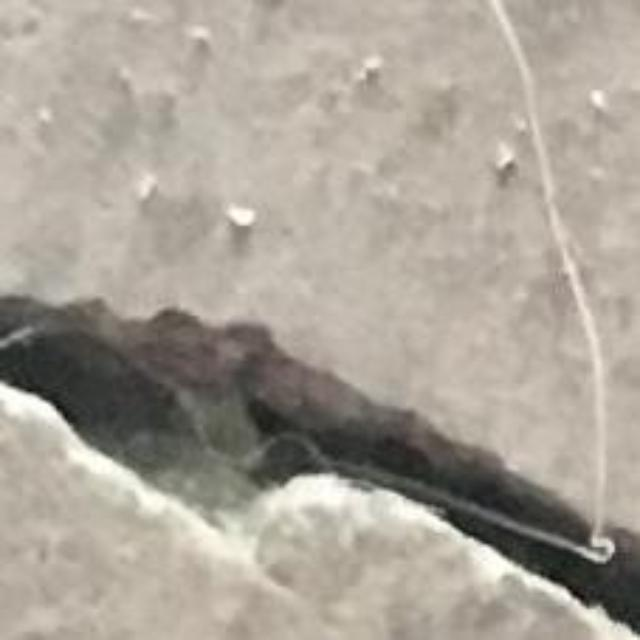crack: (0, 297, 639, 631)
